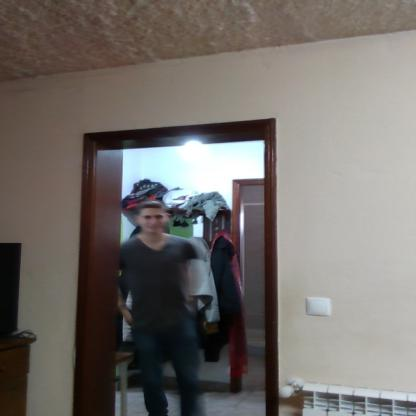open: (64, 106, 281, 416)
